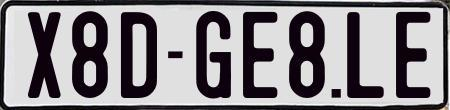8: (72, 10, 112, 100), (286, 8, 325, 100)
D: (119, 12, 160, 103)
E: (243, 10, 282, 102), (396, 12, 436, 100)
G: (196, 11, 236, 102)
L: (346, 10, 383, 98)
X: (27, 10, 63, 97)
